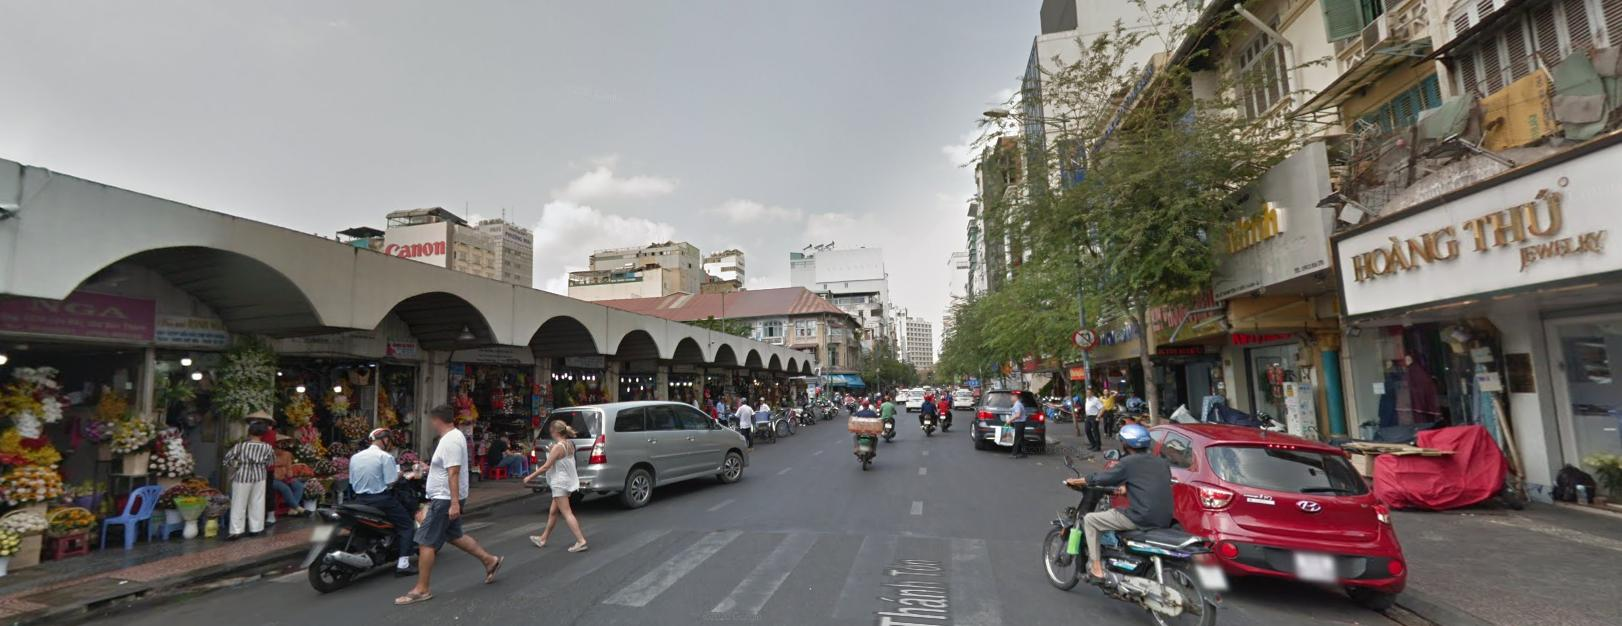Cam re: (1070, 325, 1099, 348)
